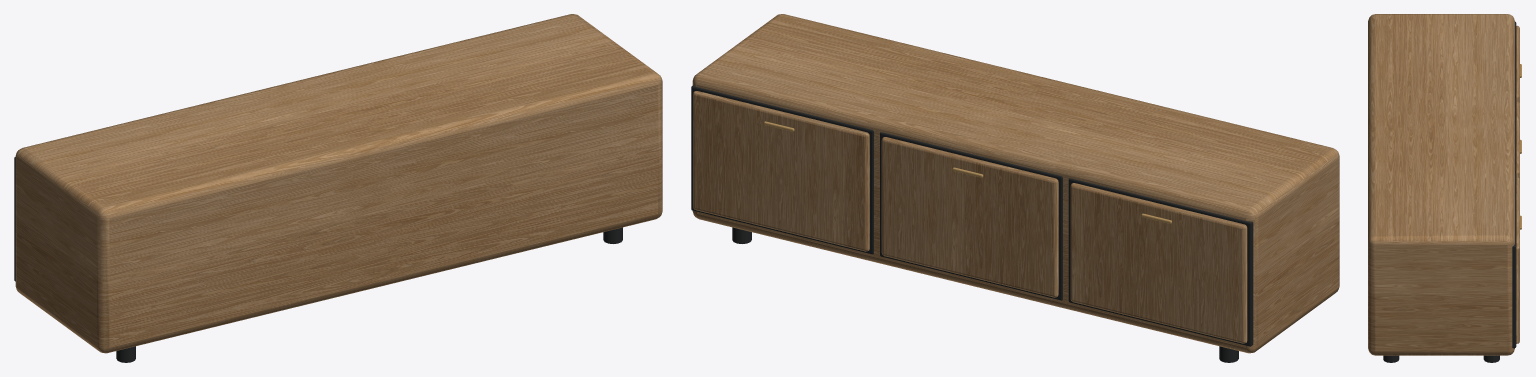
Rendered from media-console.glb.
The picture shows the model from 3 angles, left to right: view 1: azimuth 30°, elevation 25°; view 2: azimuth 150°, elevation 25°; view 3: azimuth 270°, elevation 25°; orthographic projection. The views are drawn at different scales.
Parts seen in each view (by area): view 1: Satin quarter-cut oak, Charcoal fittings; view 2: Satin quarter-cut oak, Charcoal fittings; view 3: Satin quarter-cut oak, Charcoal fittings.
Boxes of the visible parts, left/top/right/bottom form: Satin quarter-cut oak: left=15, top=14, right=662, bottom=353; Charcoal fittings: left=14, top=157, right=622, bottom=362; Satin quarter-cut oak: left=692, top=14, right=1339, bottom=353; Charcoal fittings: left=691, top=85, right=1253, bottom=362; Satin quarter-cut oak: left=1368, top=14, right=1519, bottom=355; Charcoal fittings: left=1383, top=21, right=1516, bottom=362.
Size of the model in its own units: 1.6 by 0.45 by 0.4585.
3 materials, 1 textured.
